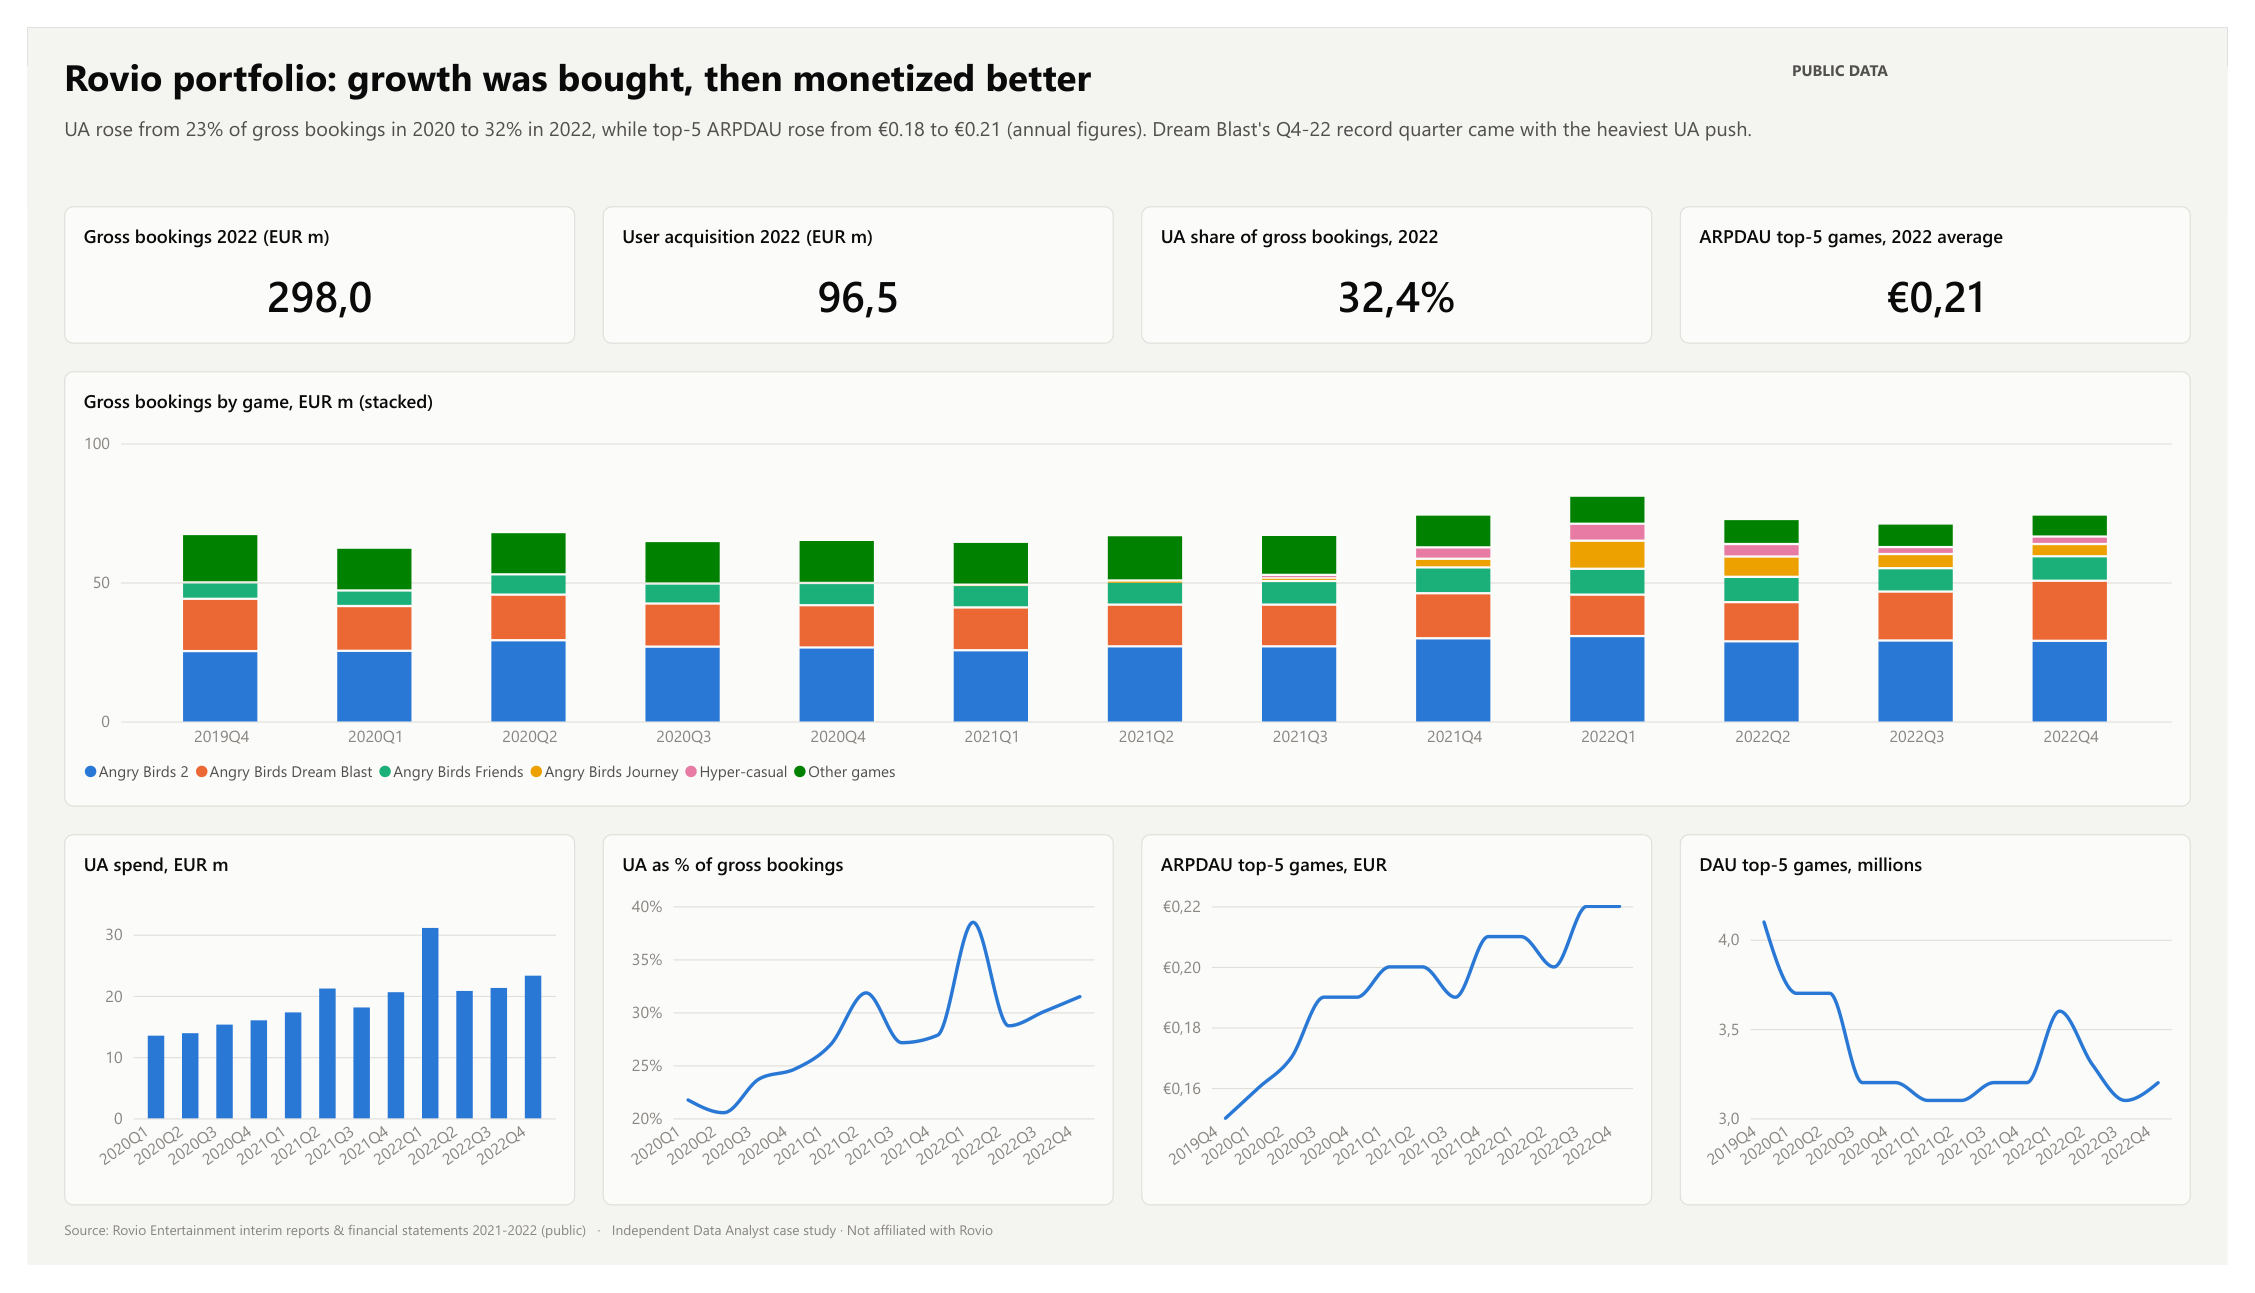

This screenshot's page, from the dashboard's own definition file:
{"tool":"powerbi","page":{"name":"1 · Rovio portfolio","canvas":[1920,1080],"ordinal":1},"visuals":[{"type":"textbox","box":[32,20,1500,56],"z":1000},{"type":"textbox","box":[1540,28,348,40],"z":2000},{"type":"textbox","box":[32,76,1856,64],"z":3000},{"type":"card","title":"Gross bookings 2022 (EUR m)","fields":{"Values":["_Measures.Rovio Gross Bookings (EUR m)"]},"box":[32,156,446,120],"z":4000},{"type":"card","title":"User acquisition 2022 (EUR m)","fields":{"Values":["_Measures.Rovio UA (EUR m)"]},"box":[502,156,446,120],"z":5000},{"type":"card","title":"UA share of gross bookings, 2022","fields":{"Values":["_Measures.Rovio UA Share"]},"box":[972,156,446,120],"z":6000},{"type":"card","title":"ARPDAU top-5 games, 2022 average","fields":{"Values":["_Measures.Rovio ARPDAU Top 5"]},"box":[1442,156,446,120],"z":7000},{"type":"columnChart","title":"Gross bookings by game, EUR m (stacked)","fields":{"Category":["Rovio Games.quarter"],"Series":["Rovio Games.game"],"Y":["_Measures.Rovio Gross Bookings (EUR m)"]},"box":[32,300,1856,380],"z":8000},{"type":"clusteredColumnChart","title":"UA spend, EUR m","fields":{"Category":["Rovio Quarterly.quarter"],"Y":["_Measures.Rovio UA (EUR m)"]},"box":[32,704,446,324],"z":9000},{"type":"lineChart","title":"UA as % of gross bookings","fields":{"Category":["Rovio Quarterly.quarter"],"Y":["_Measures.Rovio UA Share"]},"box":[502,704,446,324],"z":10000},{"type":"lineChart","title":"ARPDAU top-5 games, EUR","fields":{"Category":["Rovio Quarterly.quarter"],"Y":["_Measures.Rovio ARPDAU Top 5"]},"box":[972,704,446,324],"z":11000},{"type":"lineChart","title":"DAU top-5 games, millions","fields":{"Category":["Rovio Quarterly.quarter"],"Y":["_Measures.Rovio DAU Top 5 (m)"]},"box":[1442,704,446,324],"z":12000},{"type":"textbox","box":[32,1040,1856,32],"z":13000}]}

Visuals, with their boxes in screenshot pixels (x1, y1, x2, y2), scaled from the page's 1920x1080 canvas onto the 2255x1293 screenshot:
textbox: x1=38, y1=24, x2=1799, y2=91
textbox: x1=1809, y1=34, x2=2217, y2=81
textbox: x1=38, y1=91, x2=2217, y2=168
"Gross bookings 2022 (EUR m)" card: x1=38, y1=187, x2=561, y2=330
"User acquisition 2022 (EUR m)" card: x1=590, y1=187, x2=1113, y2=330
"UA share of gross bookings, 2022" card: x1=1142, y1=187, x2=1665, y2=330
"ARPDAU top-5 games, 2022 average" card: x1=1694, y1=187, x2=2217, y2=330
"Gross bookings by game, EUR m (stacked)" columnChart: x1=38, y1=359, x2=2217, y2=814
"UA spend, EUR m" clusteredColumnChart: x1=38, y1=843, x2=561, y2=1231
"UA as % of gross bookings" lineChart: x1=590, y1=843, x2=1113, y2=1231
"ARPDAU top-5 games, EUR" lineChart: x1=1142, y1=843, x2=1665, y2=1231
"DAU top-5 games, millions" lineChart: x1=1694, y1=843, x2=2217, y2=1231
textbox: x1=38, y1=1245, x2=2217, y2=1283
